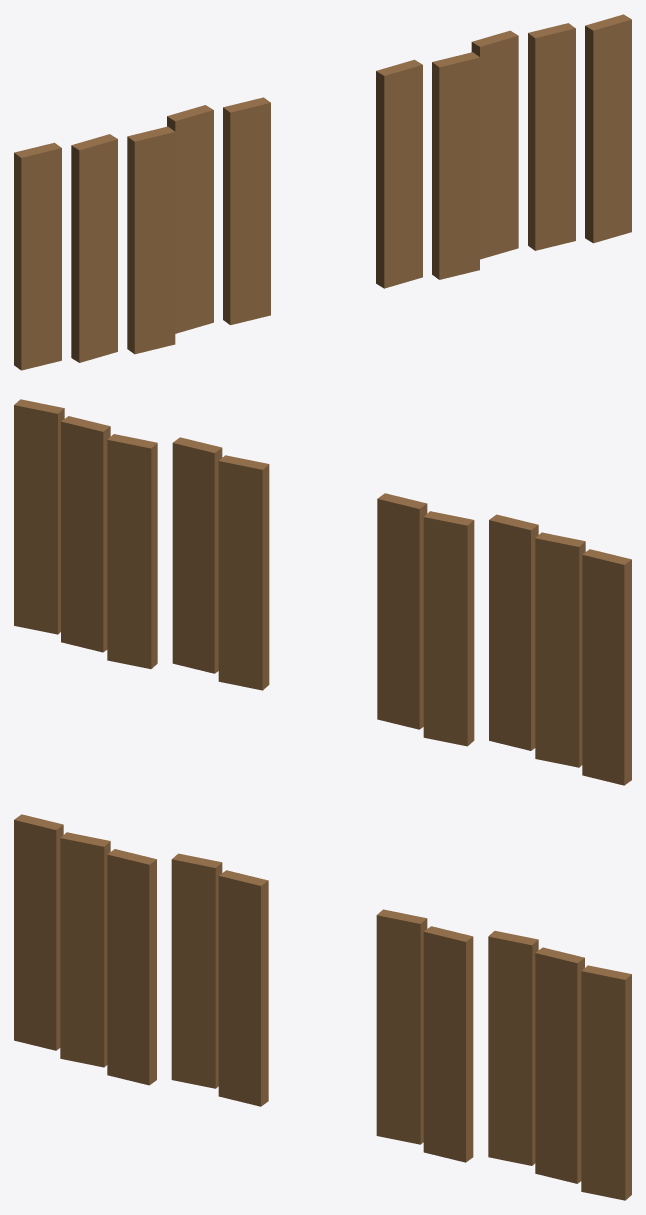
File: bridge_broken_r0_01.glb
3 renders of one model, top to bottom at view 1: azimuth 30°, elevation 25°; view 2: azimuth 150°, elevation 25°; view 3: azimuth 330°, elevation 25°, orthographic. The views are drawn at different scales.
Parts seen in each view (by area): view 1: plank2, plank10, plank0, plank4, plank8, plank1, plank7, plank11, plank9, plank3; view 2: plank3, plank7, plank9, plank0, plank1, plank4, plank8, plank11, plank10, plank2; view 3: plank4, plank8, plank11, plank2, plank3, plank7, plank1, plank9, plank10, plank0.
Part boxes in pixels (x1=…): plank2: x1=127, y1=126, x2=175, y2=354; plank10: x1=528, y1=23, x2=575, y2=250; plank0: x1=14, y1=142, x2=61, y2=370; plank4: x1=223, y1=97, x2=270, y2=325; plank8: x1=432, y1=52, x2=479, y2=279; plank1: x1=71, y1=134, x2=117, y2=362; plank7: x1=376, y1=59, x2=422, y2=288; plank11: x1=585, y1=14, x2=631, y2=243; plank9: x1=471, y1=30, x2=518, y2=259; plank3: x1=167, y1=105, x2=213, y2=333; plank3: x1=423, y1=511, x2=474, y2=746; plank7: x1=218, y1=455, x2=269, y2=690; plank9: x1=107, y1=434, x2=157, y2=668; plank0: x1=582, y1=549, x2=631, y2=785; plank1: x1=535, y1=532, x2=585, y2=767; plank4: x1=377, y1=493, x2=427, y2=729; plank8: x1=172, y1=437, x2=222, y2=673; plank11: x1=14, y1=399, x2=64, y2=634; plank10: x1=61, y1=416, x2=110, y2=652; plank2: x1=489, y1=514, x2=538, y2=750; plank4: x1=218, y1=870, x2=268, y2=1106; plank8: x1=423, y1=926, x2=473, y2=1162; plank11: x1=581, y1=965, x2=631, y2=1200; plank2: x1=107, y1=849, x2=156, y2=1085; plank3: x1=171, y1=853, x2=222, y2=1088; plank7: x1=376, y1=909, x2=427, y2=1144; plank1: x1=60, y1=832, x2=110, y2=1067; plank9: x1=488, y1=931, x2=538, y2=1165; plank10: x1=535, y1=947, x2=584, y2=1183; plank0: x1=14, y1=814, x2=63, y2=1050.
Size of the model in its own units: 4.72 by 1.6 by 0.2853.
